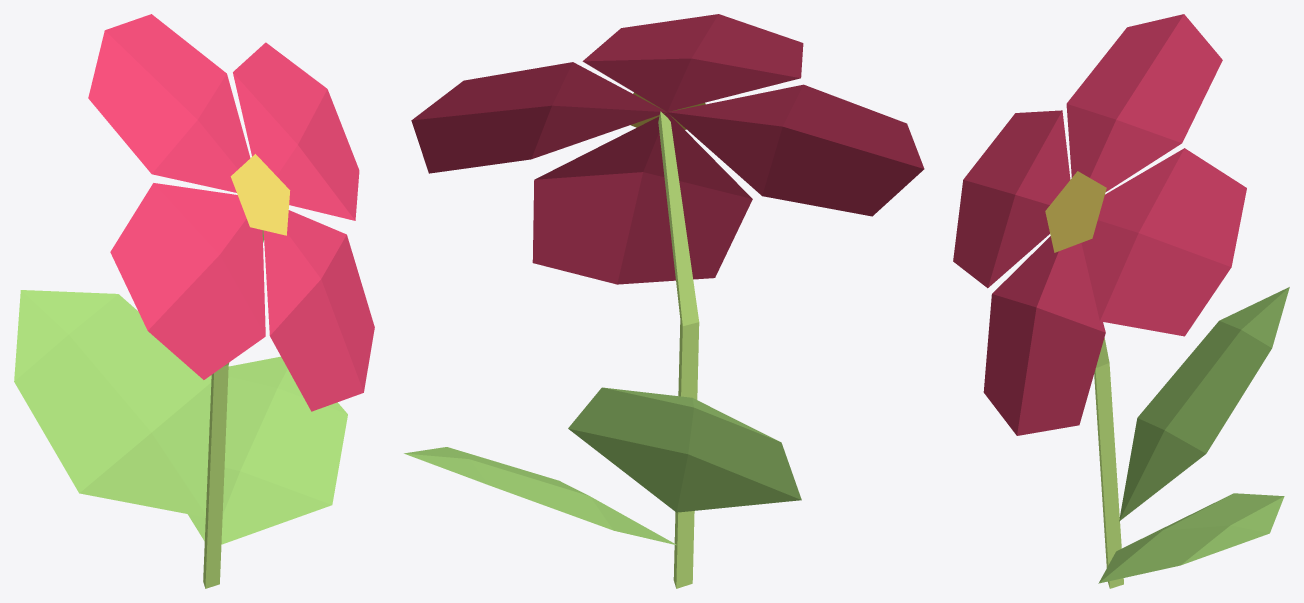
File: Flower_c_OneS_14.fbx
3 renders of one model, left to right at view 1: azimuth 30°, elevation 25°; view 2: azimuth 150°, elevation 25°; view 3: azimuth 270°, elevation 25°, orthographic. The views are drawn at different scales.
Parts seen in each view (by area): view 1: Flower_c_OneS_14; view 2: Flower_c_OneS_14; view 3: Flower_c_OneS_14.
Part boxes in pixels (bbox=[...]): Flower_c_OneS_14: bbox=[14, 14, 374, 588]; Flower_c_OneS_14: bbox=[404, 14, 924, 588]; Flower_c_OneS_14: bbox=[953, 14, 1289, 588].
Size of the model in its own units: 0.2584 by 0.4017 by 0.228.
